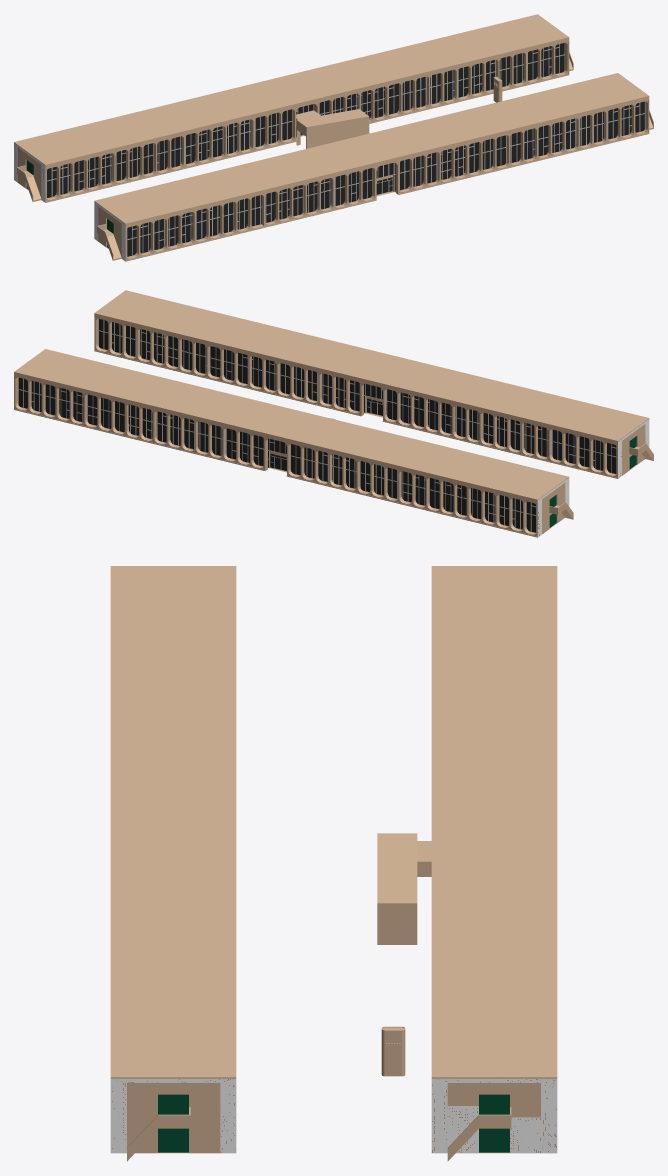
The model's file is salles.gltf.
3 views of the same model, one above another, from view 1: azimuth 30°, elevation 25°; view 2: azimuth 150°, elevation 25°; view 3: azimuth 270°, elevation 25° (orthographic). The views are drawn at different scales.
Visible parts, largest first — view 1: 100-400; view 2: 100-400; view 3: 100-400.
Part boxes in pixels (x1,y1,x2,y2): 100-400: (14, 14, 653, 261); 100-400: (14, 290, 653, 537); 100-400: (110, 566, 557, 1161).
Size of the model in its own units: 270 by 18.11 by 96.38.
1 material, 1 textured.
